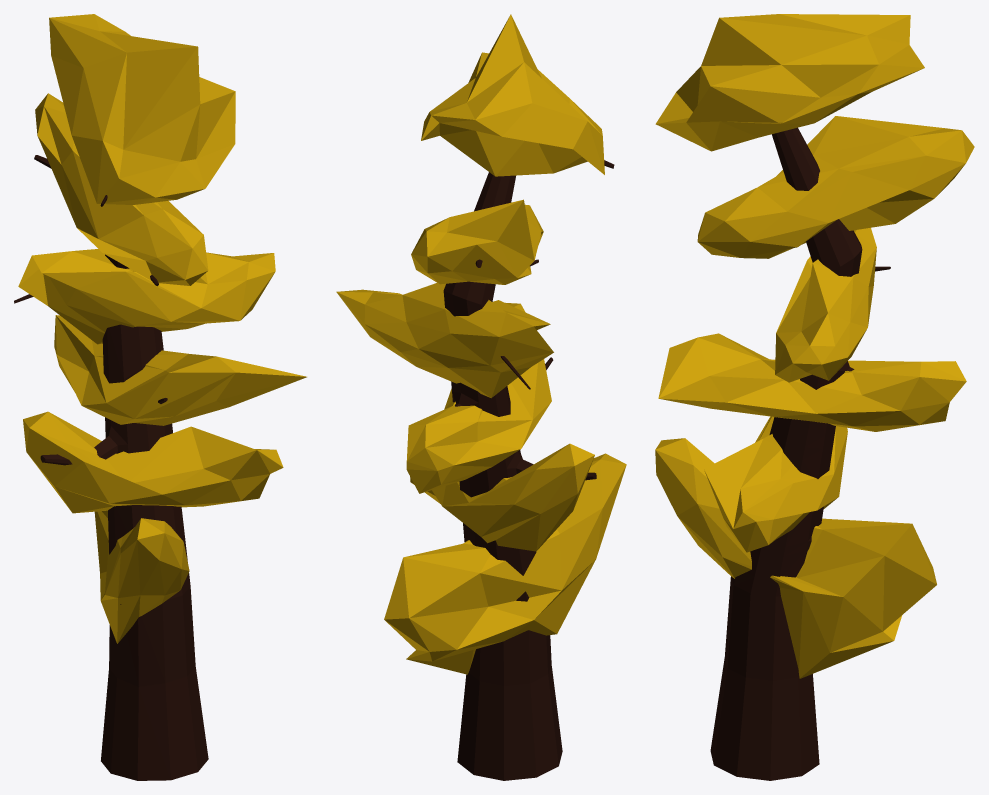
The model's file is t5-yellow.obj.
3 views of the same model, side by side, from view 1: azimuth 30°, elevation 25°; view 2: azimuth 150°, elevation 25°; view 3: azimuth 270°, elevation 25° (orthographic). The views are drawn at different scales.
Parts seen in each view (by area): view 1: t5-yellow_Icosphere.026; view 2: t5-yellow_Icosphere.026; view 3: t5-yellow_Icosphere.026.
Part boxes in pixels (x1,y1,x2,y2): t5-yellow_Icosphere.026: [14, 14, 306, 780]; t5-yellow_Icosphere.026: [336, 14, 626, 780]; t5-yellow_Icosphere.026: [655, 14, 974, 780].
Bounding box in the file's own units: 3.58 × 9.84 × 3.79.
